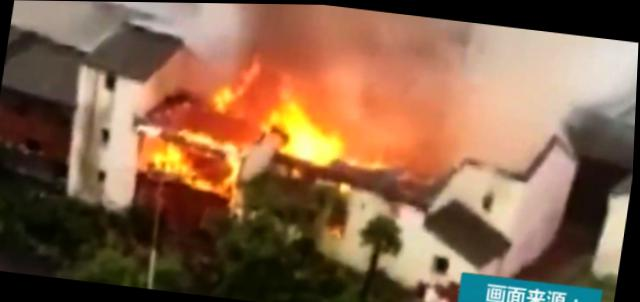fire: (267, 98, 350, 166), (148, 139, 198, 179), (219, 142, 249, 192), (211, 81, 248, 120), (177, 123, 227, 150)
